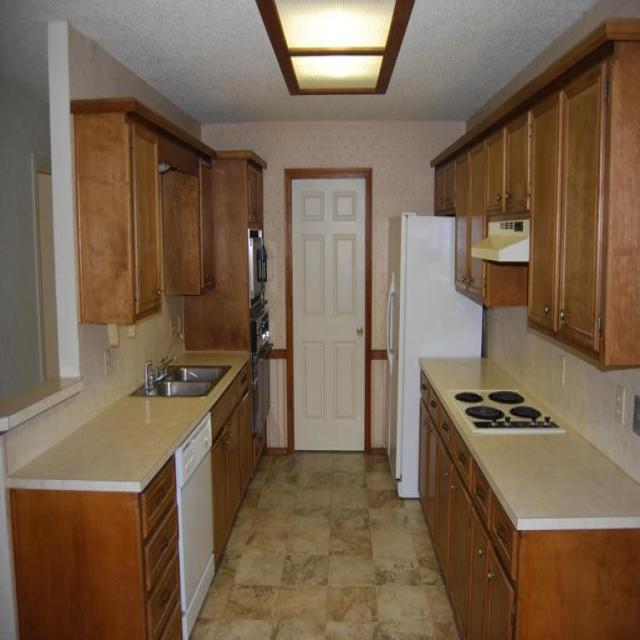chimni: (451, 388, 565, 433)
cupboard: (7, 454, 182, 638)
door: (290, 174, 366, 451)
indoor-plant: (1, 3, 638, 638)
shelves: (430, 18, 638, 372)
white-board: (384, 210, 484, 499)
